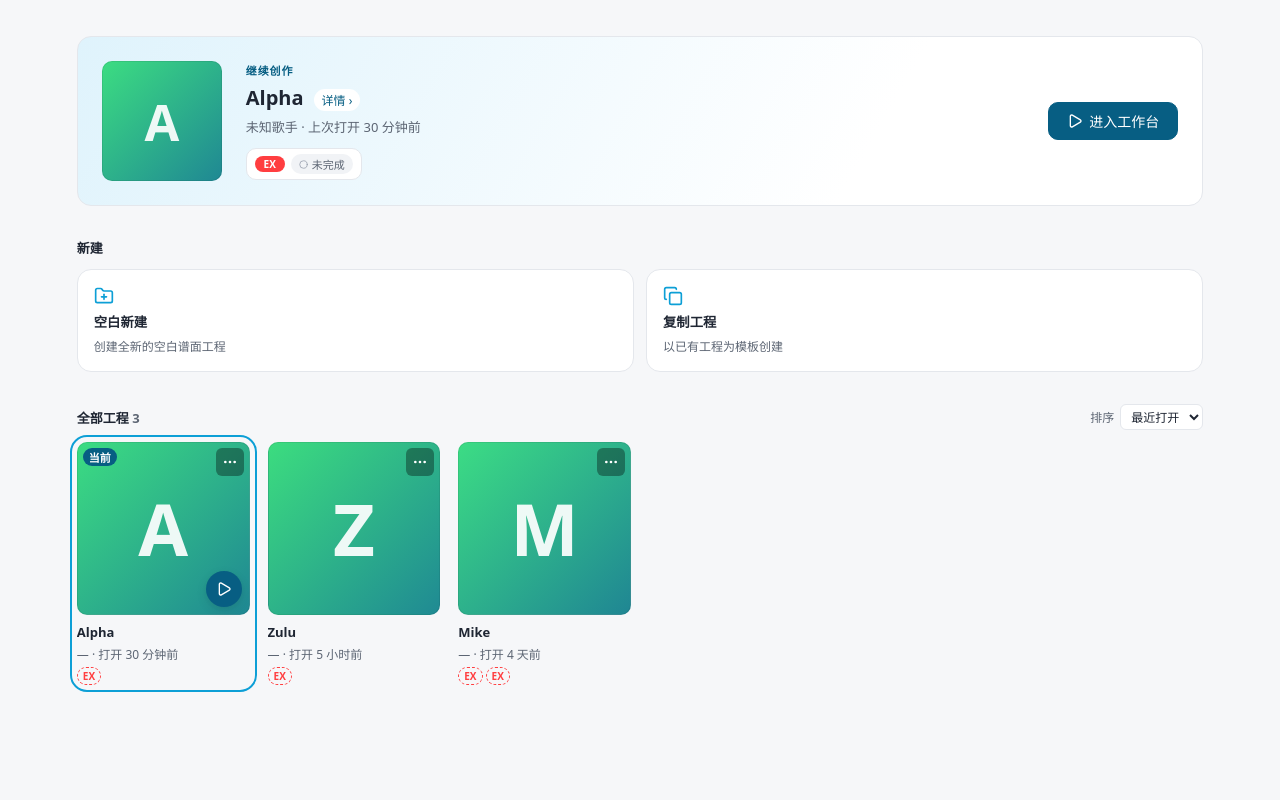
Test case: issue 40 · 手动浏览焦点让位（定案 Q2） › d) 浏览后切排序：手动焦点让位，横幅 = 新排序头
Expected: the heading "全部工程 3" is shown, [77, 408, 140, 426]
Press ArrowRight
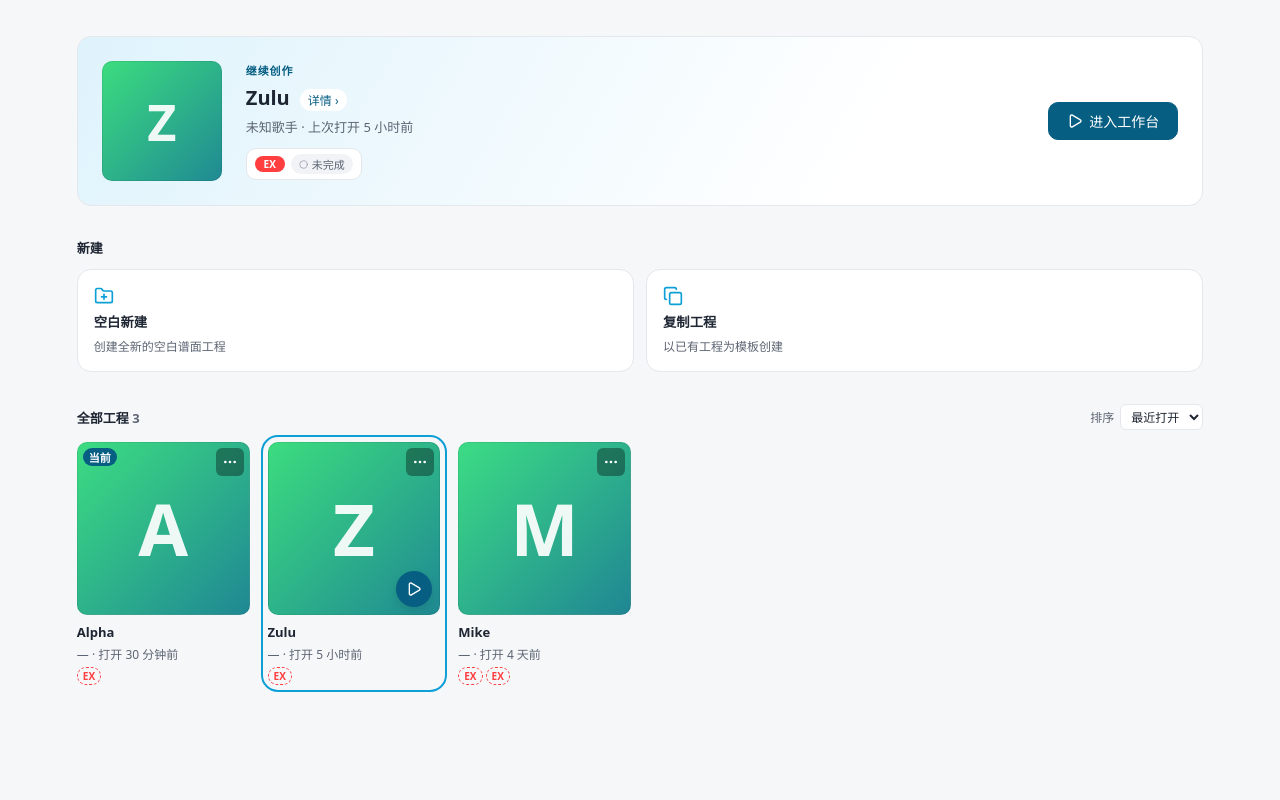
Expected: the heading "Zulu 详情 ›" is shown, [246, 84, 347, 111]
Select "最近修改" in the dropdown labelled "排序" at x=1162, y=417, box [1120, 404, 1203, 430]
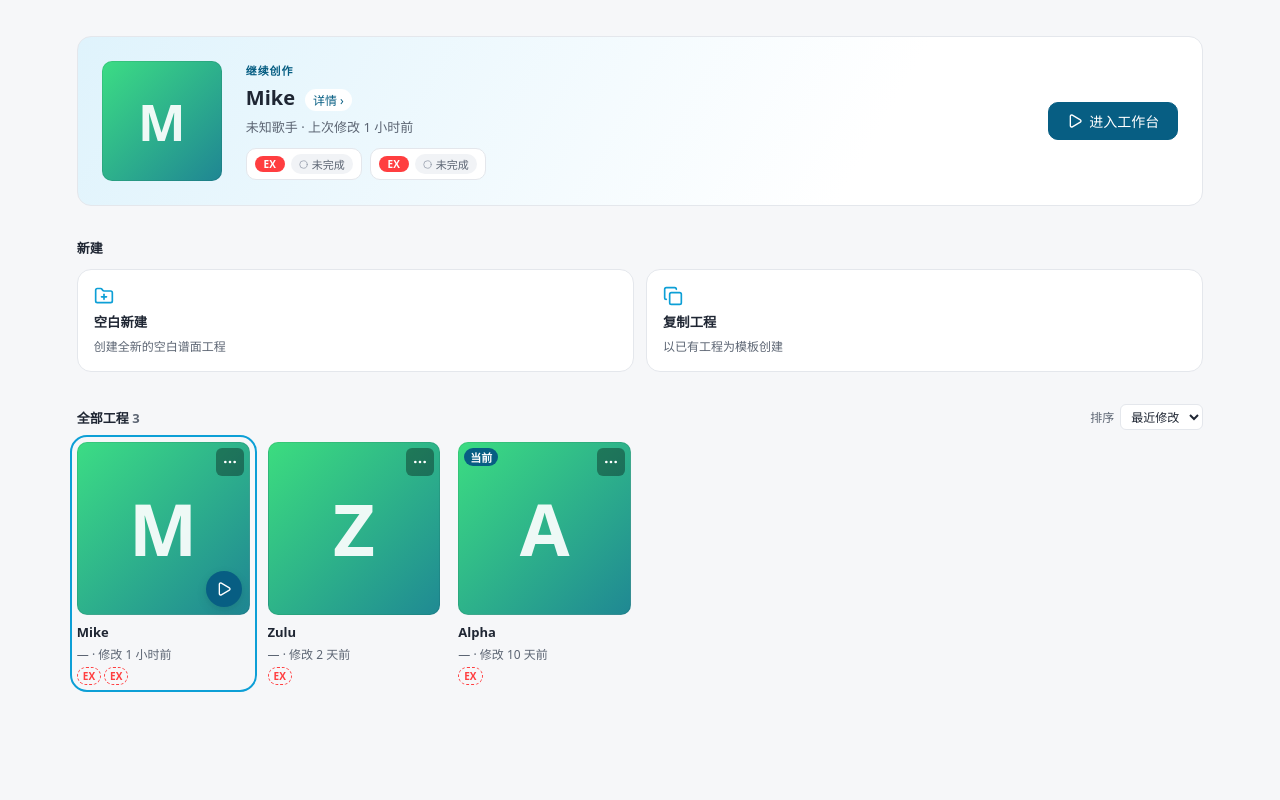
Expected: the heading "Mike 详情 ›" is shown, [246, 84, 352, 111]
